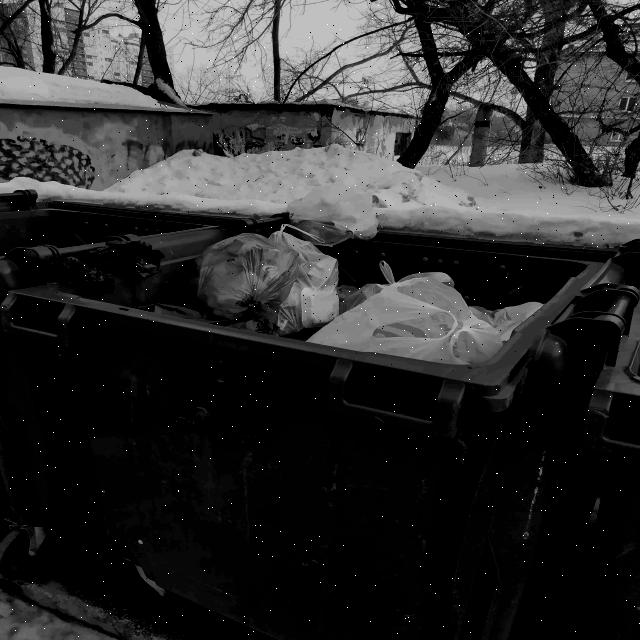Trashcan: (36, 200, 636, 634)
